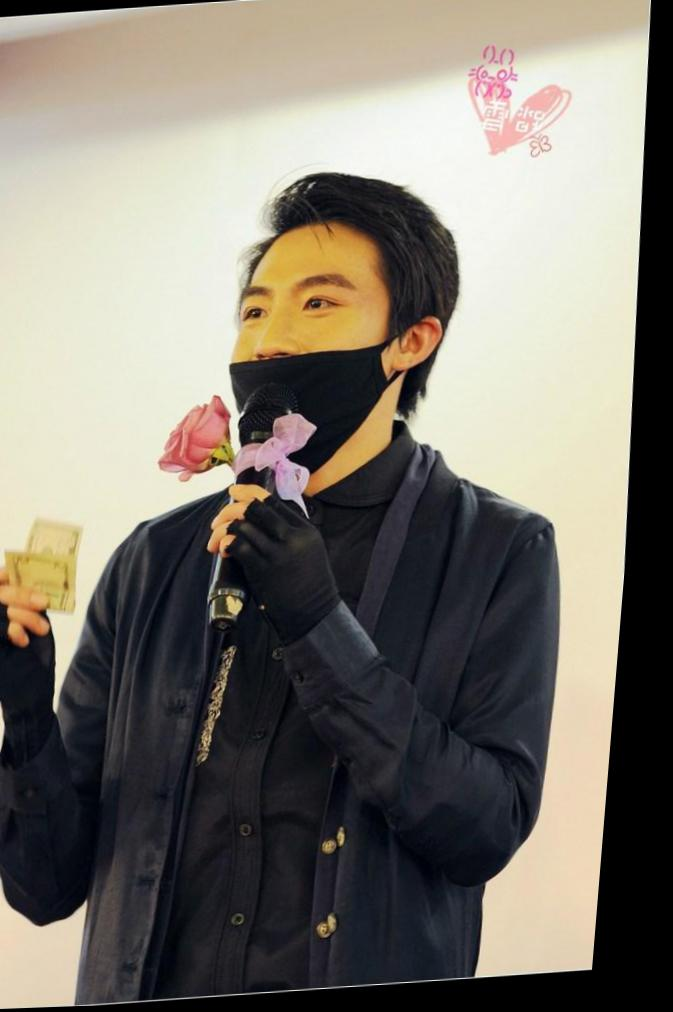WRONG: (203, 255, 398, 444)
